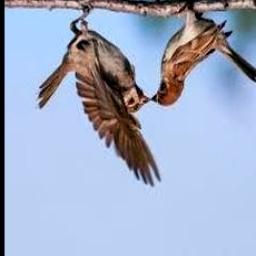Sparrow: (38, 8, 161, 185), (152, 3, 256, 107)
